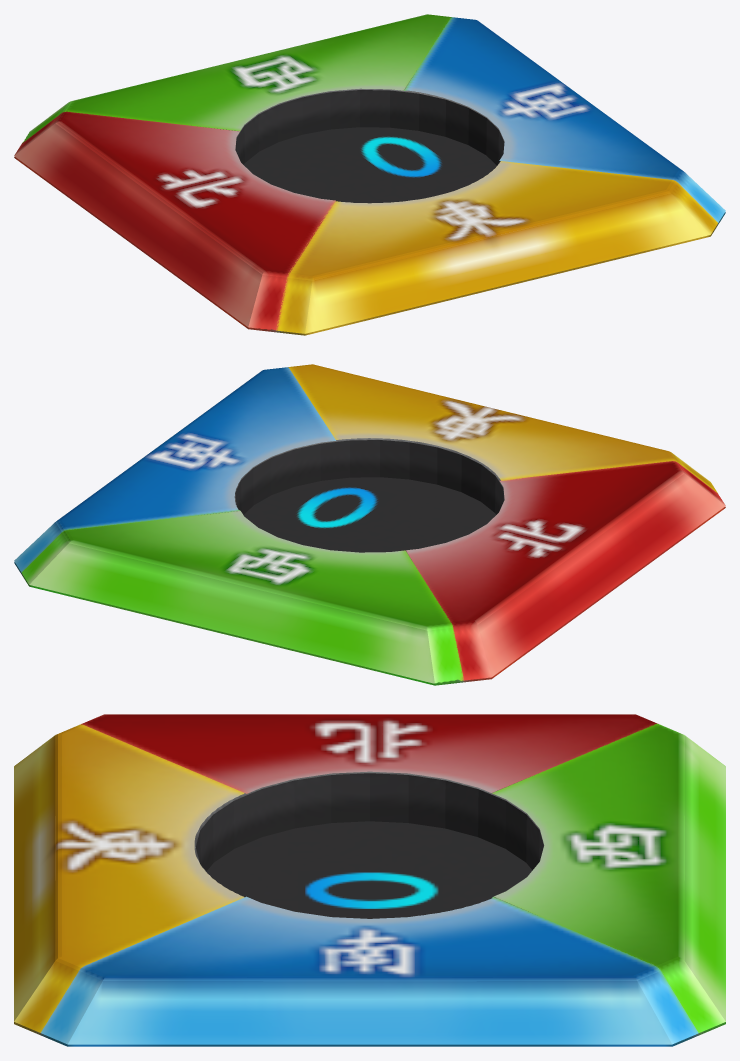
File: direction.FBX
The picture shows the model from 3 angles, top to bottom: view 1: azimuth 30°, elevation 25°; view 2: azimuth 150°, elevation 25°; view 3: azimuth 270°, elevation 25°; orthographic projection. The views are drawn at different scales.
Parts seen in each view (by area): view 1: direction01, direction04, Cylinder002, direction02, direction03, 0, direction; view 2: direction03, direction04, Cylinder002, direction02, direction01, 0, direction; view 3: direction02, direction03, direction01, Cylinder002, direction04, 0, direction.
Boxes of the visible parts, bbox=[...] form: direction01: bbox=[276, 161, 717, 333]; direction04: bbox=[14, 111, 335, 330]; Cylinder002: bbox=[235, 90, 504, 203]; direction02: bbox=[404, 17, 725, 222]; direction03: bbox=[22, 14, 451, 143]; 0: bbox=[342, 129, 461, 185]; direction: bbox=[14, 77, 725, 335]; direction03: bbox=[21, 511, 463, 683]; direction04: bbox=[406, 461, 725, 680]; Cylinder002: bbox=[235, 440, 504, 552]; direction02: bbox=[14, 367, 335, 572]; direction01: bbox=[288, 364, 717, 493]; 0: bbox=[278, 479, 397, 535]; direction: bbox=[14, 438, 725, 685]; direction02: bbox=[41, 896, 698, 1044]; direction03: bbox=[492, 723, 725, 1032]; direction01: bbox=[14, 724, 244, 1032]; Cylinder002: bbox=[196, 773, 543, 918]; direction04: bbox=[81, 714, 657, 793]; 0: bbox=[297, 870, 442, 910]; direction: bbox=[14, 771, 725, 1046].
Bounding box in the file's own units: 3.42 × 0.2704 × 3.42.
